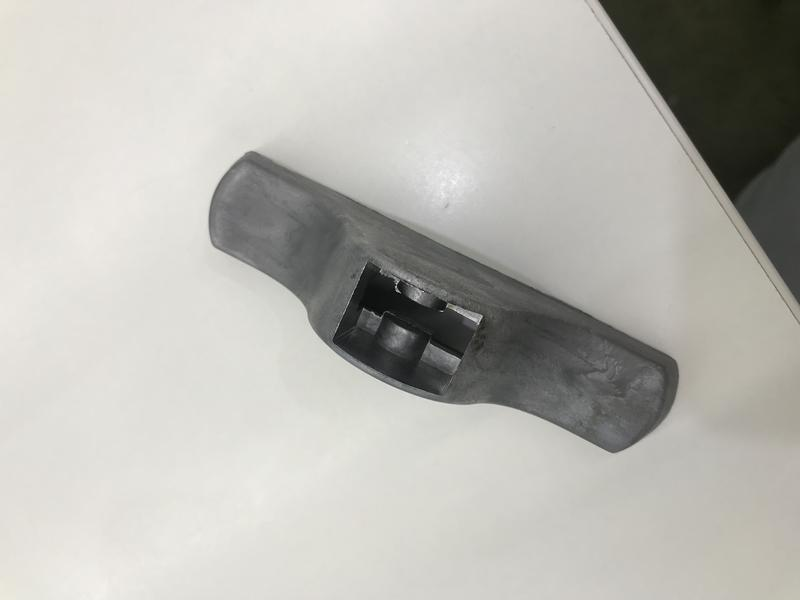zapchast: (181, 138, 701, 471)
